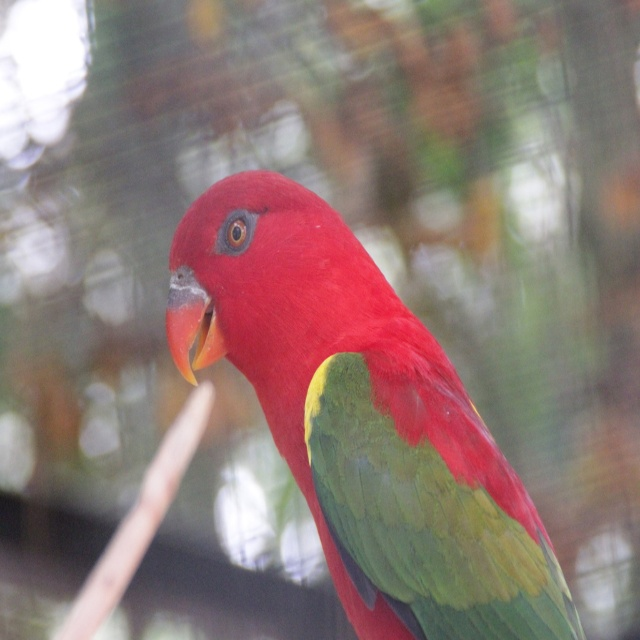Parrot: (165, 169, 586, 640)
